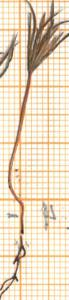flower: (16, 0, 69, 80)
root: (0, 218, 27, 300)
stem: (5, 77, 34, 217)
